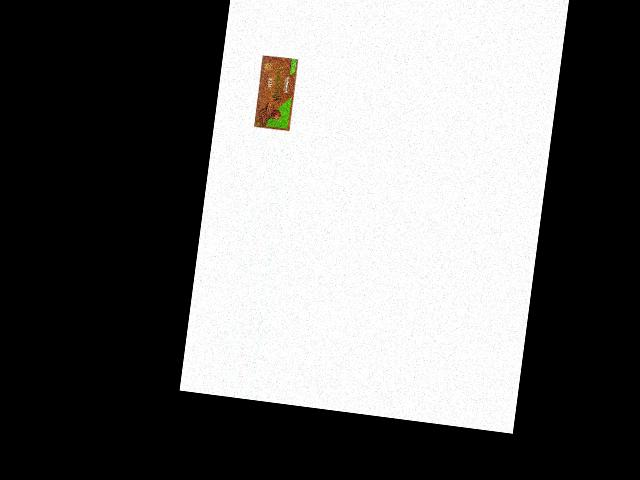chocolate: (250, 51, 300, 132)
